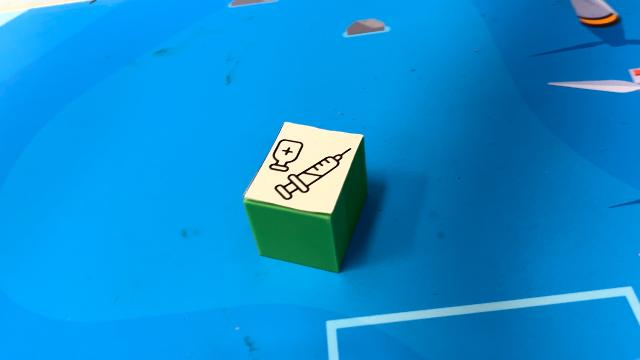syringe: (245, 123, 365, 275)
